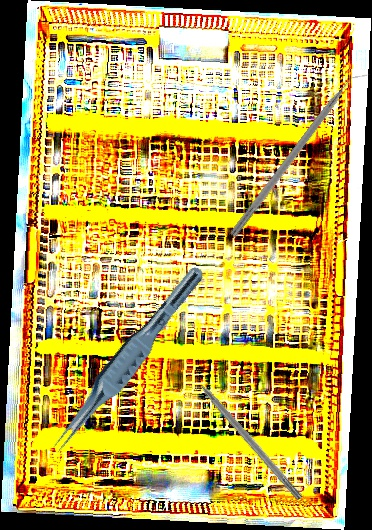Chopper: (229, 64, 372, 245)
Hook Surgical: (185, 366, 305, 502)
Tissue Forceps: (45, 256, 208, 463)
